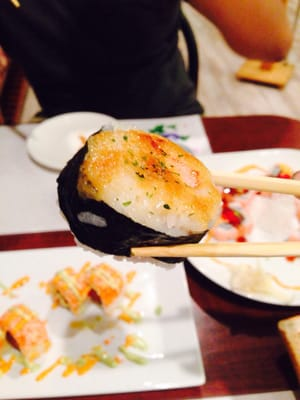pizza: (182, 257, 300, 399)
